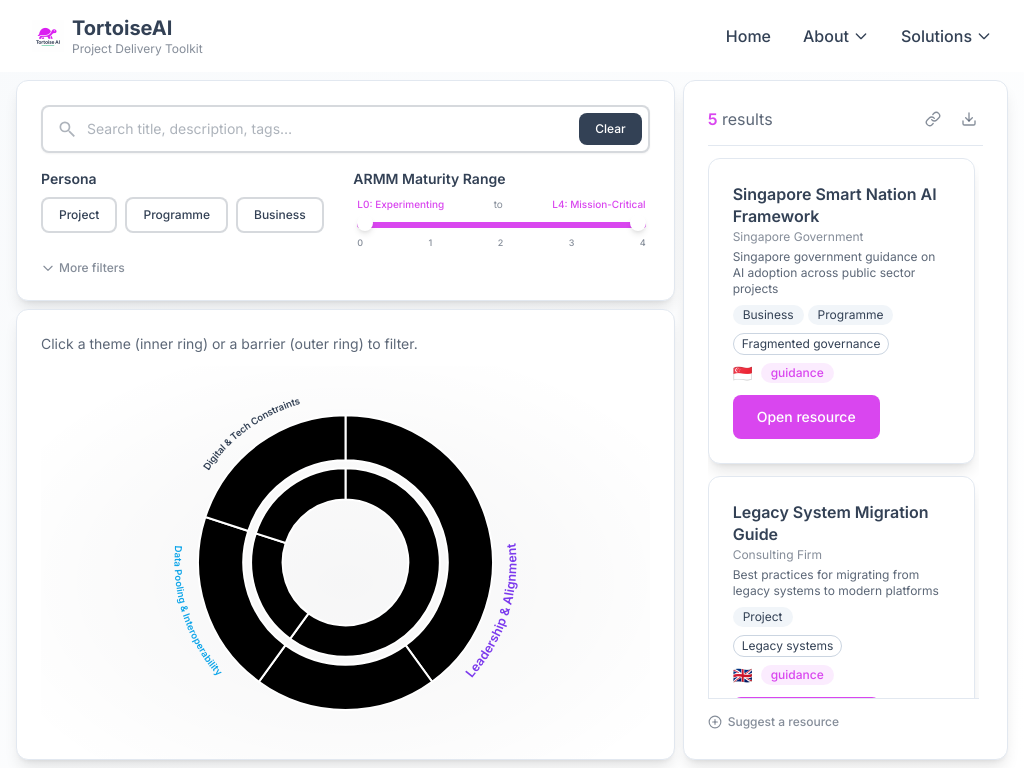
Test: App Component › Search Functionality › should clear search when clear button is clicked
The image size is (1024, 768).
In the field with placeholder "Search title, description, tags…": (345, 129) [41, 105, 650, 153], type "strategy"
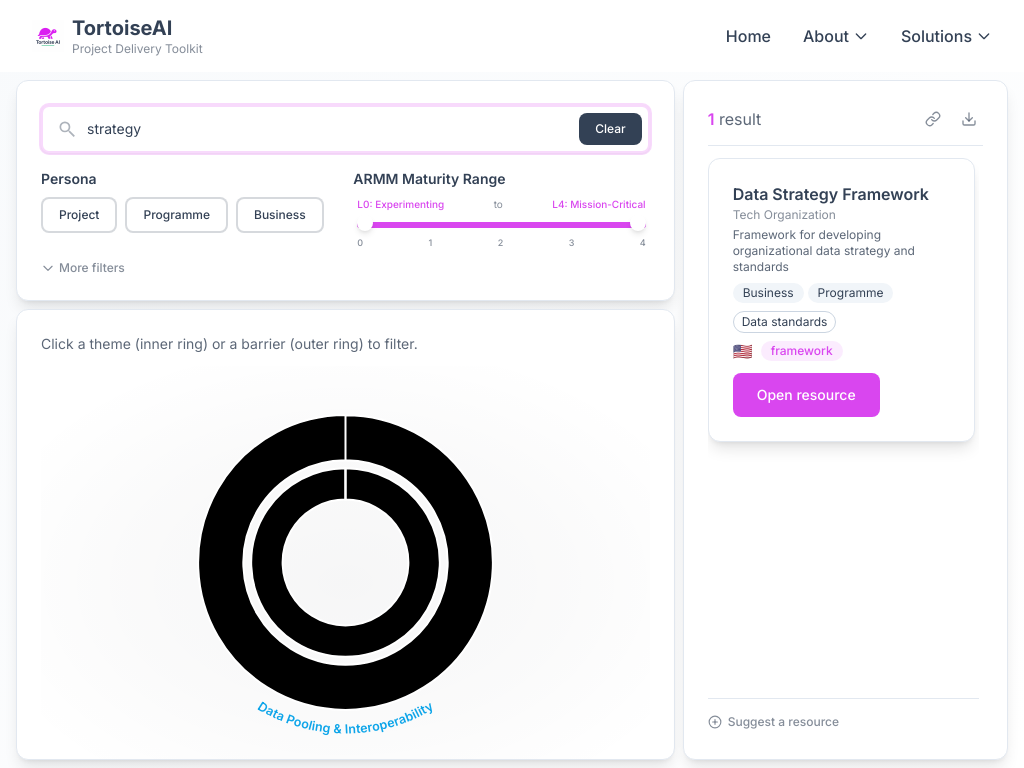
Click the button "Clear": (610, 129) [579, 113, 642, 145]
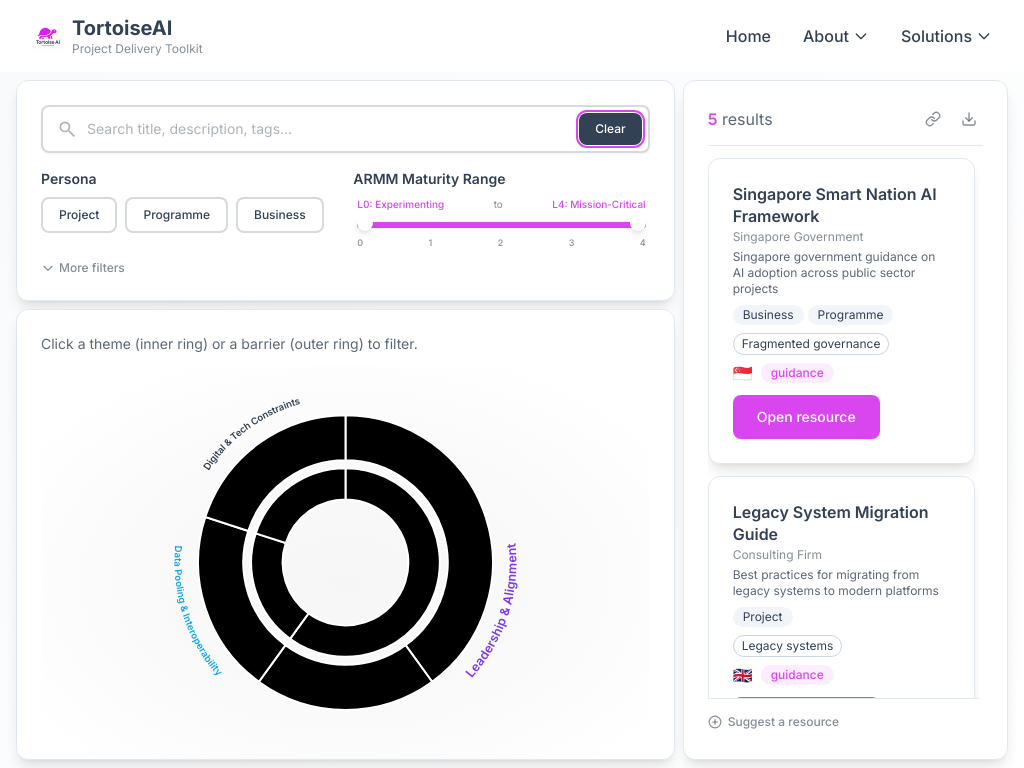
Now the field with placeholder "Search title, description, tags…" is empty, box [41, 105, 650, 153]
